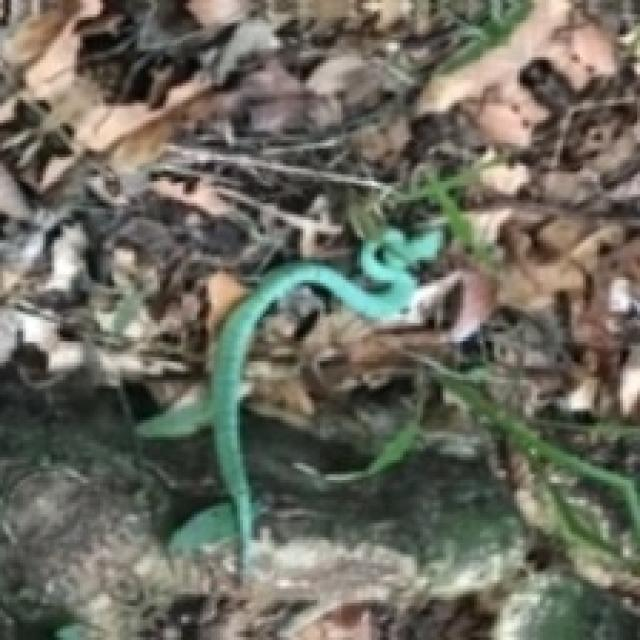north ph temple pitviper: (209, 229, 440, 566)
